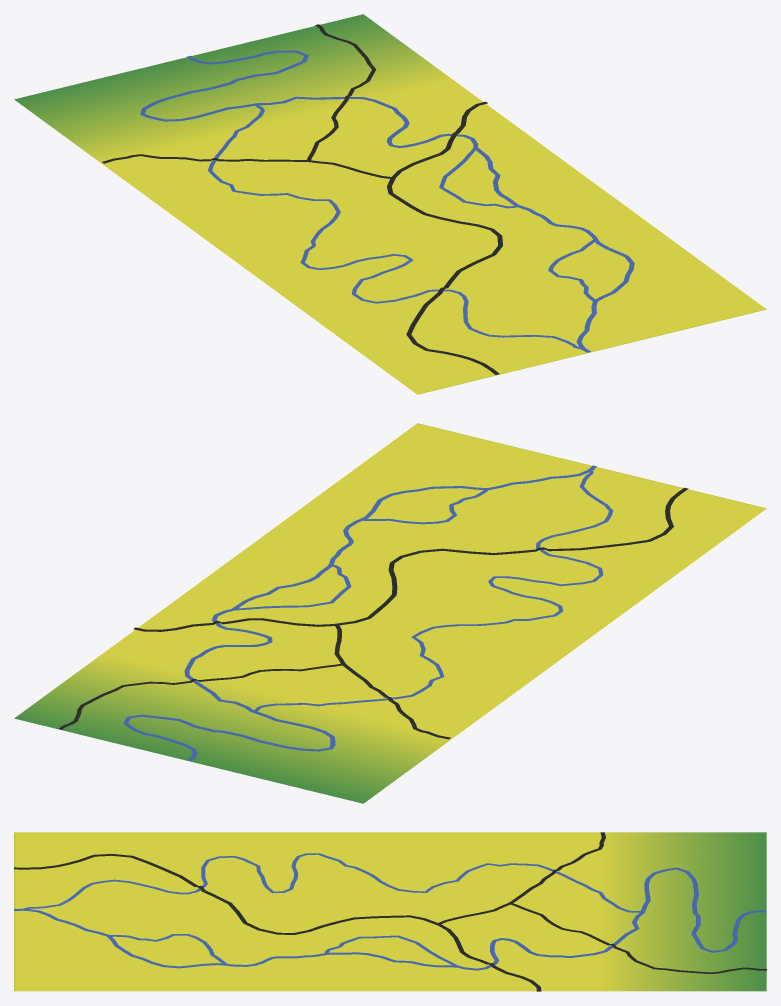
File: 04_ete.glb
3 views of the same model, one above another, from view 1: azimuth 30°, elevation 25°; view 2: azimuth 150°, elevation 25°; view 3: azimuth 270°, elevation 25° (orthographic). The views are drawn at different scales.
Visible parts, largest first — view 1: 04_sol, 04_riviere, 04_route; view 2: 04_sol, 04_riviere, 04_route; view 3: 04_sol, 04_riviere, 04_route.
Part boxes in pixels (x1,y1,x2,y2): 04_sol: [14, 14, 766, 394]; 04_riviere: [140, 50, 634, 352]; 04_route: [102, 24, 502, 374]; 04_sol: [14, 423, 766, 803]; 04_riviere: [123, 465, 613, 760]; 04_route: [59, 487, 688, 739]; 04_sol: [14, 832, 766, 991]; 04_riviere: [14, 853, 766, 970]; 04_route: [14, 832, 766, 991].
Bounding box in the file's own units: 60.3 × 0.4007 × 120.
3 materials, 3 textured.
